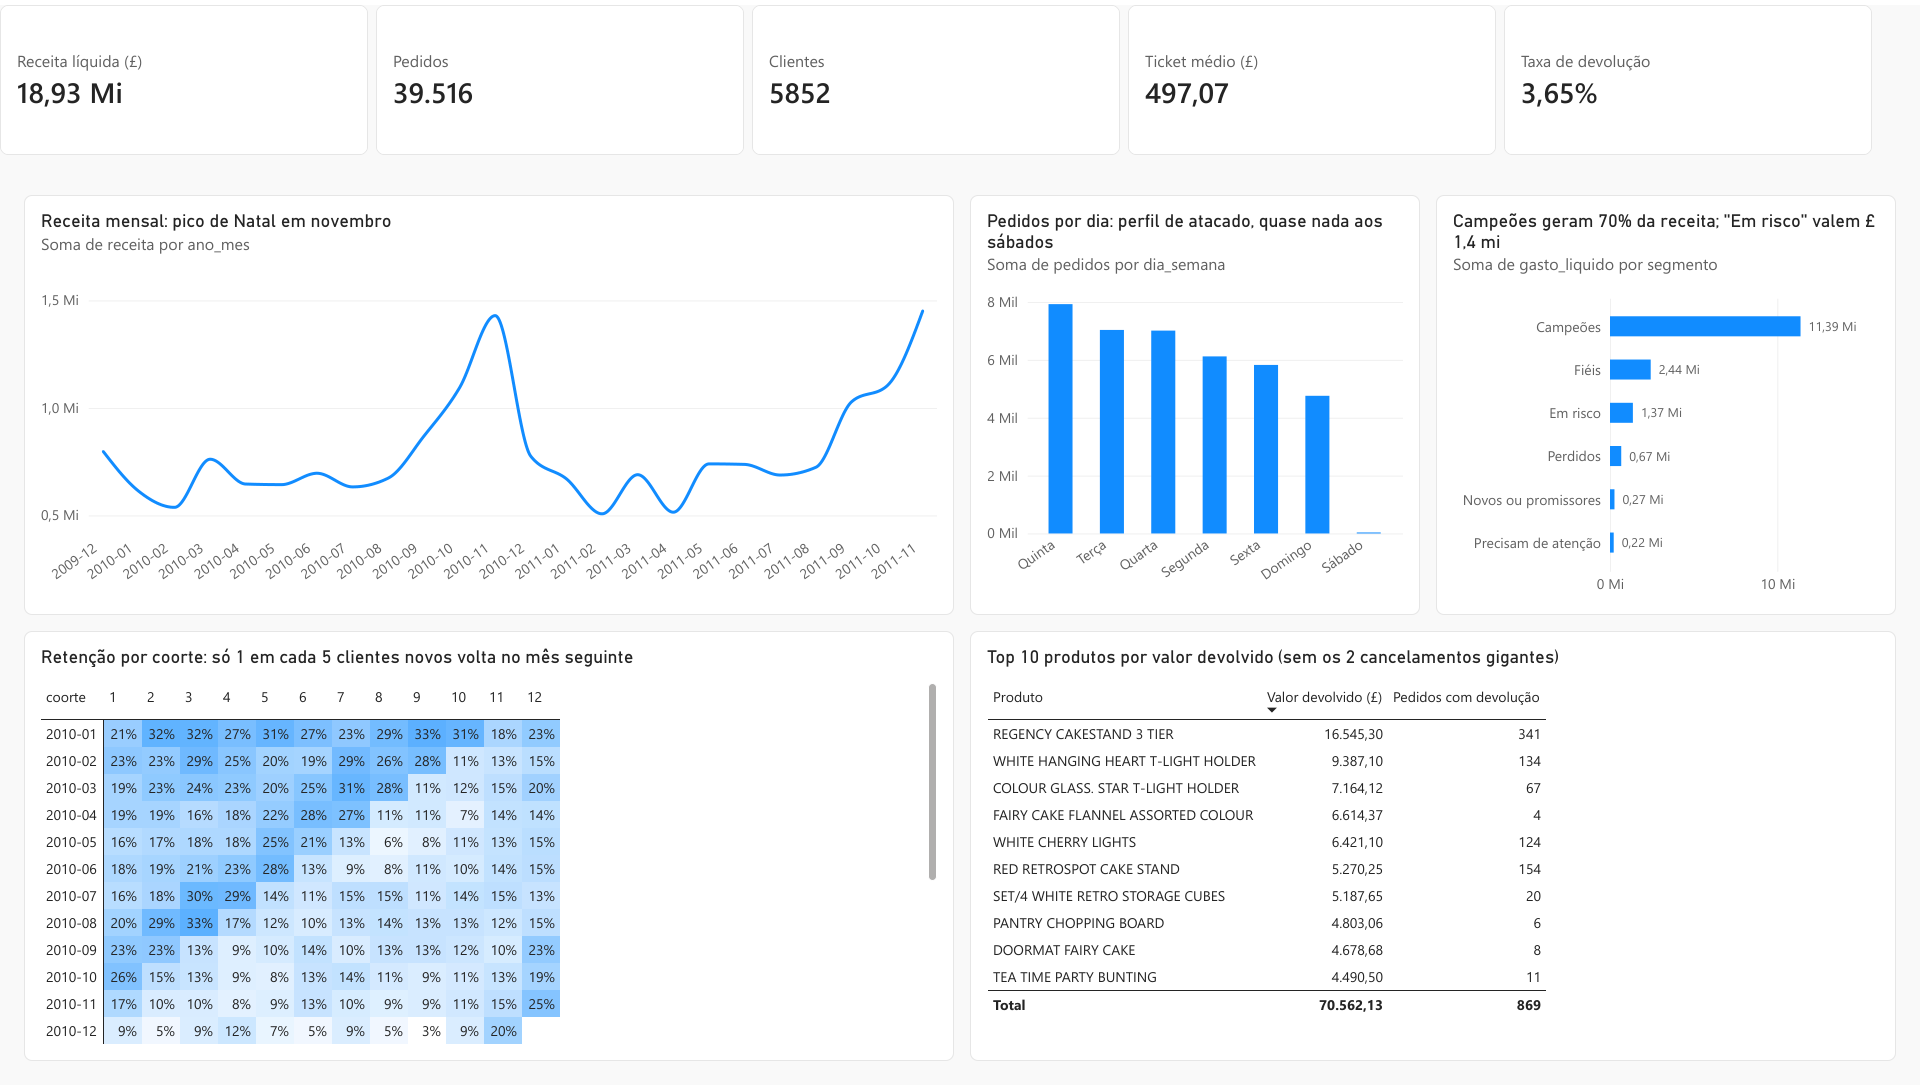

Layout of this report page (visuals, bound fields, positions):
{"tool":"powerbi","page":{"name":"Página 1","canvas":[1920,1080],"ordinal":0},"visuals":[{"type":"cardVisual","fields":{"Data":["Sum(indicadores.receita_liquida)","Sum(indicadores.pedidos)","Sum(indicadores.clientes)","Sum(indicadores.ticket_medio)","Sum(indicadores.taxa_devolucao)"]},"box":[0,0,1872,150],"z":0},{"type":"lineChart","title":"Receita mensal: pico de Natal em novembro","fields":{"Category":["vendas_diarias.ano_mes"],"Y":["Sum(vendas_diarias.receita)"]},"box":[24,190,930,420],"z":1},{"type":"clusteredColumnChart","title":"Pedidos por dia: perfil de atacado, quase nada aos sábados","fields":{"Category":["vendas_diarias.dia_semana"],"Y":["Sum(vendas_diarias.pedidos)"]},"box":[970,190,450,420],"z":2},{"type":"barChart","title":"Campeões geram 70% da receita; \"Em risco\" valem £ 1,4 mi","fields":{"Category":["clientes_rfm.segmento"],"Y":["Sum(clientes_rfm.gasto_liquido)"]},"box":[1436,190,460,420],"z":3},{"type":"pivotTable","title":"Retenção por coorte: só 1 em cada 5 clientes novos volta no mês seguinte","fields":{"Columns":["coortes.mes_de_vida"],"Rows":["coortes.coorte"],"Values":["Max(coortes.retencao)"]},"box":[24,626,930,430],"z":4},{"type":"tableEx","title":"Top 10 produtos por valor devolvido (sem os 2 cancelamentos gigantes)","fields":{"Values":["produtos.descricao","Sum(produtos.valor_devolvido)","Sum(produtos.vezes_devolvido)"]},"box":[970,626,926,430],"z":5}]}

Visuals, with their boxes in screenshot pixels (x1, y1, x2, y2), scaled from the page's 1920x1080 canvas onto the 1920x1090 screenshot:
cardVisual - Sum(indicadores.receita_liquida) x Sum(indicadores.pedidos): region(0, 0, 1872, 151)
"Receita mensal: pico de Natal em novembro" lineChart: region(24, 192, 954, 616)
"Pedidos por dia: perfil de atacado, quase nada aos sábados" clusteredColumnChart: region(970, 192, 1420, 616)
"Campeões geram 70% da receita; "Em risco" valem £ 1,4 mi" barChart: region(1436, 192, 1896, 616)
"Retenção por coorte: só 1 em cada 5 clientes novos volta no mês seguinte" pivotTable: region(24, 632, 954, 1066)
"Top 10 produtos por valor devolvido (sem os 2 cancelamentos gigantes)" tableEx: region(970, 632, 1896, 1066)
